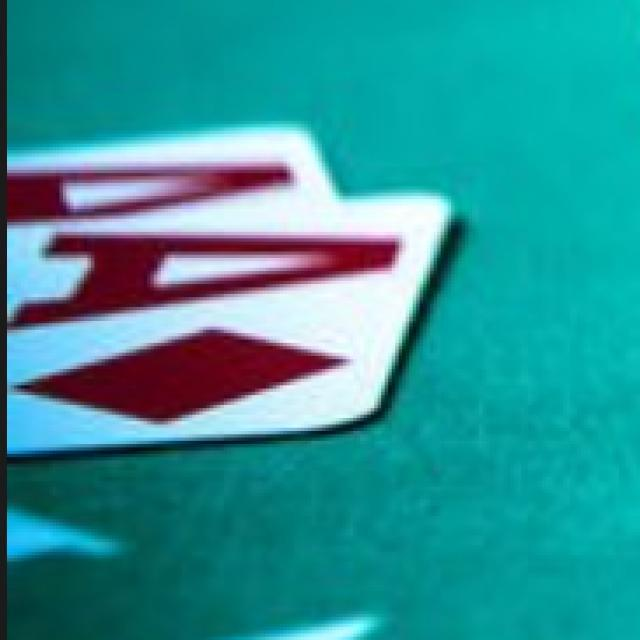Card-A: (7, 195, 450, 458), (5, 119, 340, 226)
